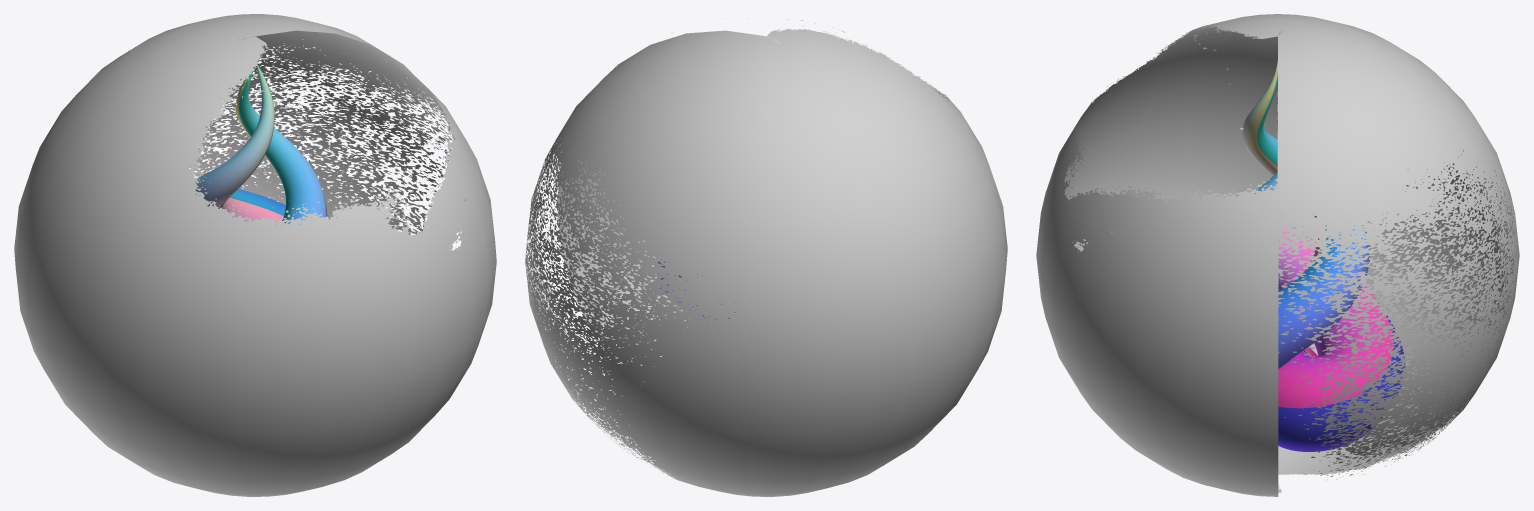
The model's file is CAT_EYEBALL2.dae.
The picture shows the model from 3 angles, left to right: view 1: azimuth 30°, elevation 25°; view 2: azimuth 150°, elevation 25°; view 3: azimuth 270°, elevation 25°; orthographic projection.
Parts seen in each view (by area): view 1: DRAGON_SPHERE, Sweep; view 2: DRAGON_SPHERE; view 3: DRAGON_SPHERE, Sweep.
Boxes of the visible parts, <box> form: DRAGON_SPHERE: <box>14,14,496,496</box>; Sweep: <box>195,64,327,225</box>; DRAGON_SPHERE: <box>525,18,1007,496</box>; DRAGON_SPHERE: <box>1036,14,1519,496</box>; Sweep: <box>1242,60,1405,451</box>.
Bounding box in the file's own units: 72 × 72 × 72.
Materials: 2 (1 with a texture image).
